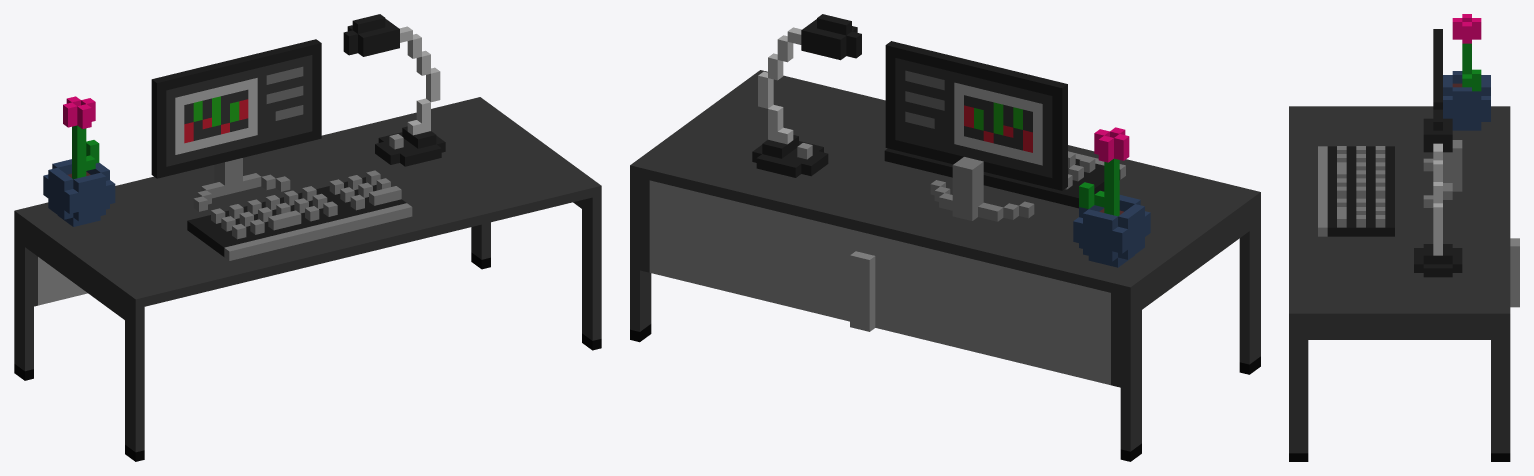
Rendered from Table.obj.
The picture shows the model from 3 angles, left to right: view 1: azimuth 30°, elevation 25°; view 2: azimuth 150°, elevation 25°; view 3: azimuth 270°, elevation 25°; orthographic projection. The views are drawn at different scales.
Bounding box in the file's own units: 5.1 × 3.2 × 2.4.
1 material, 1 textured.
